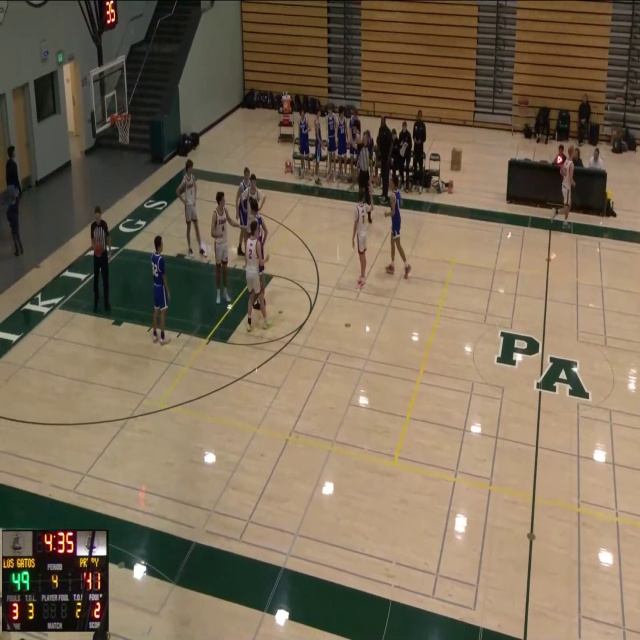Basketball: (93, 242, 103, 257)
